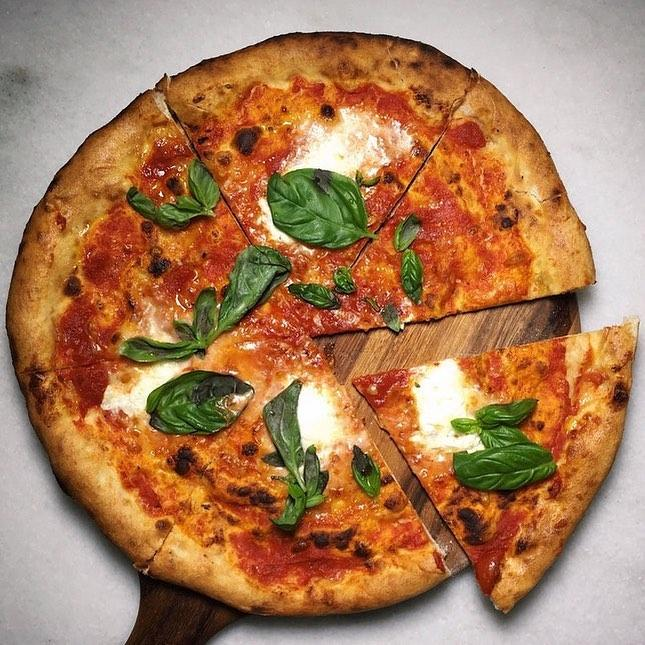Basil: (157, 271, 280, 336), (449, 401, 539, 487), (263, 179, 366, 254), (259, 393, 326, 508), (125, 169, 222, 230), (141, 383, 238, 427), (291, 266, 353, 307), (396, 214, 425, 301)
Pizza: (19, 25, 628, 616)
